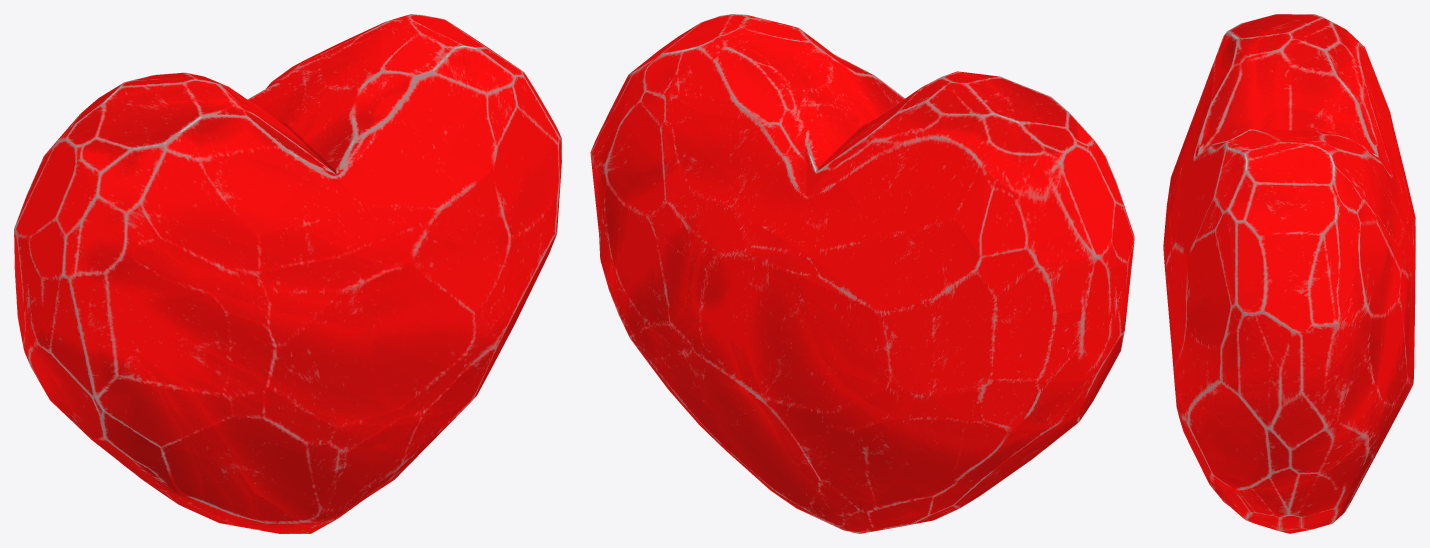
The model's file is Heart.glb.
The picture shows the model from 3 angles, left to right: view 1: azimuth 30°, elevation 25°; view 2: azimuth 150°, elevation 25°; view 3: azimuth 270°, elevation 25°; orthographic projection. The views are drawn at different scales.
Visible parts, largest first — view 1: Crystal_Heart; view 2: Crystal_Heart; view 3: Crystal_Heart.
Part boxes in pixels (box(x1,y1,x2,y2)): Crystal_Heart: box(14, 14, 561, 533); Crystal_Heart: box(590, 14, 1134, 533); Crystal_Heart: box(1163, 14, 1415, 533).
Bounding box in the file's own units: 1.16 × 0.999 × 0.5179.
Materials: 1 (1 with a texture image).
